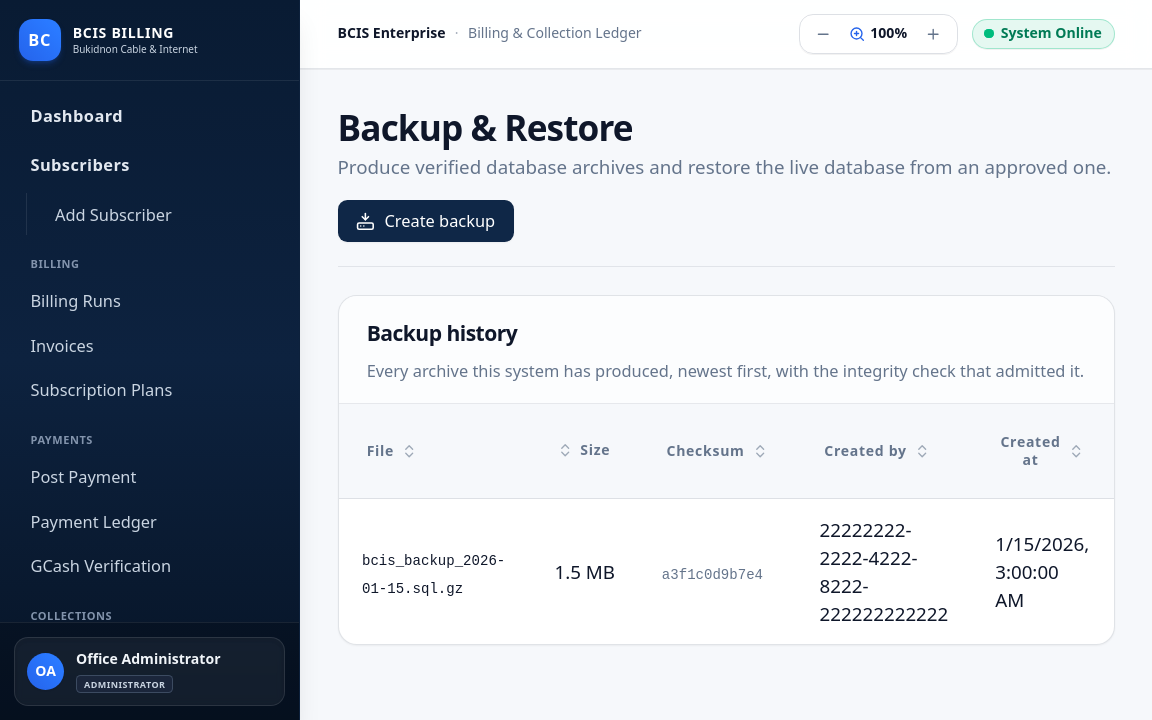
Test: BackupManagementPage › creates a backup and reports the verified result
Click the button "Create backup" at {"x": 426, "y": 221}, box [338,200,514,242]
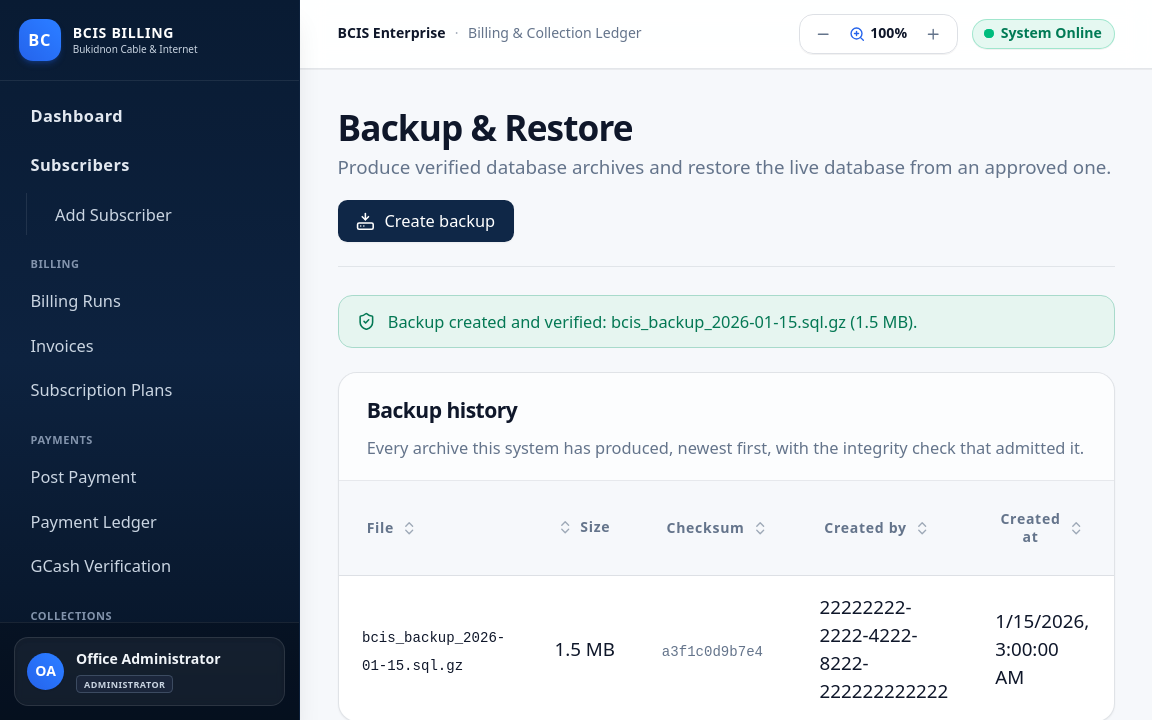
Expected: the message reads "Backup created and verified: bcis_backup_2026-01-15.sql.gz (1.5 MB).", [388,310,918,333]
